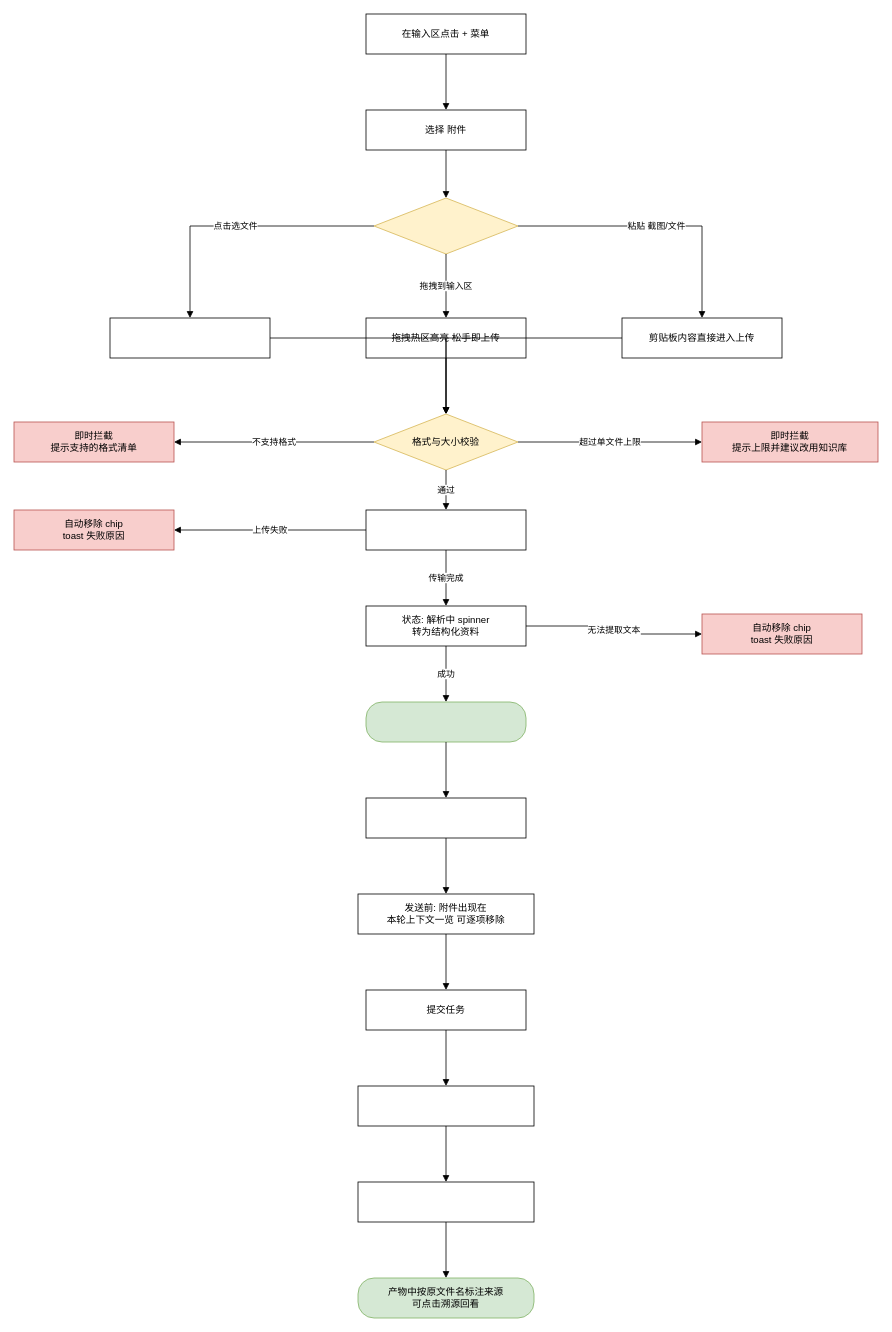
Some shapes in this 892 by 1332 pixel diagram are drawn without their labels. The box of each missing label's shape, as (x1, y1, x2, y2) in pixels:
出现文件 chip 状态: 上传中 spinner: (365, 509, 526, 550)
执行中: 灵思先看文件结构 用到才翻相关章节: (357, 1085, 534, 1126)
执行流出现可见步骤 正在翻阅《X 文件》: (357, 1181, 534, 1222)
状态: 可用 chip 显示文件类型 icon: (365, 701, 526, 742)
系统文件选择器: (109, 317, 270, 358)
继续添加更多文件 或 撰写指令: (365, 797, 526, 838)
选择上传方式: (373, 197, 518, 254)
